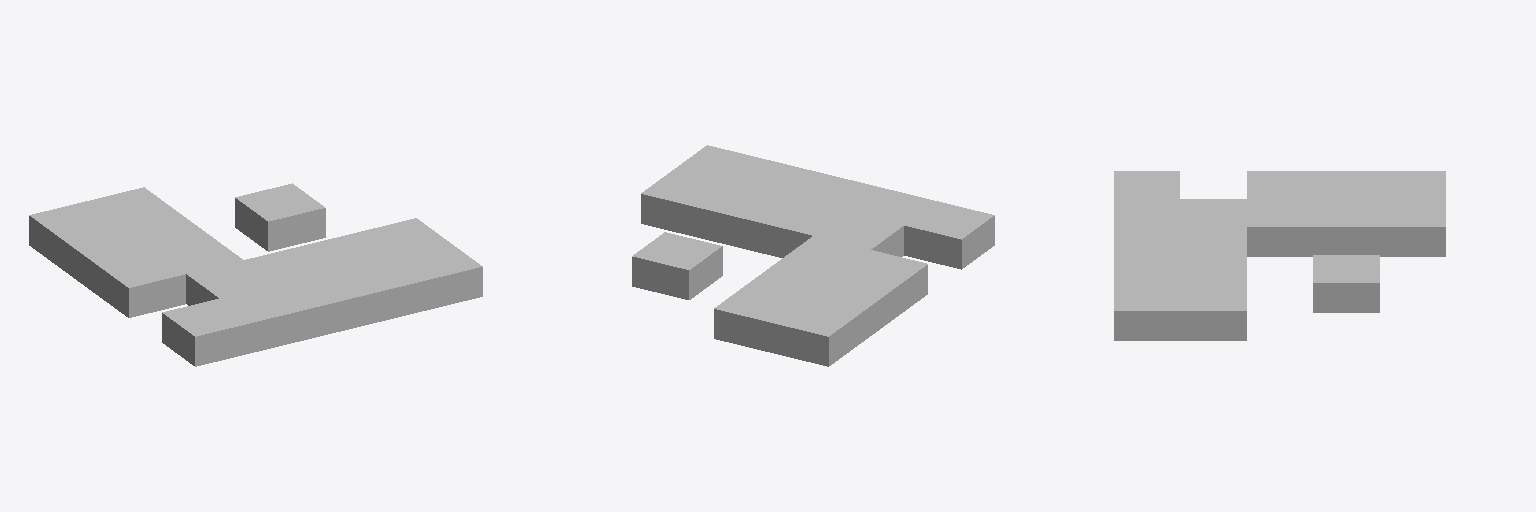
The model's file is 48f_block.obj.
3 views of the same model, side by side, from view 1: azimuth 30°, elevation 25°; view 2: azimuth 150°, elevation 25°; view 3: azimuth 270°, elevation 25° (orthographic).
Parts seen in each view (by area): view 1: foil.block.0.0_block.4166, foil.block.3.3_block.4180, foil.block.0.2_block.4168, foil.block.4.0_block.4181, foil.block.2.0_block.4176, foil.block.1.0_block.4171, foil.block.3.0_block.4178, foil.block.0.3_block.4169, foil.block.0.4_block.4170, foil.block.1.1_block.4172, foil.block.1.3_block.4174, foil.block.2.1_block.4177 (+4 smaller); view 2: foil.block.0.0_block.4166, foil.block.3.3_block.4180, foil.block.0.4_block.4170, foil.block.3.1_block.4179, foil.block.4.1_block.4182, foil.block.1.4_block.4175, foil.block.2.1_block.4177, foil.block.0.2_block.4168, foil.block.0.3_block.4169, foil.block.1.1_block.4172, foil.block.2.0_block.4176, foil.block.1.3_block.4174 (+4 smaller); view 3: foil.block.3.3_block.4180, foil.block.4.1_block.4182, foil.block.1.2_block.4173, foil.block.1.4_block.4175, foil.block.4.0_block.4181, foil.block.1.3_block.4174, foil.block.0.3_block.4169, foil.block.1.1_block.4172, foil.block.2.1_block.4177, foil.block.3.1_block.4179, foil.block.0.0_block.4166, foil.block.0.2_block.4168 (+4 smaller).
Part boxes in pixels (bbox=[...]): foil.block.0.0_block.4166: bbox=[162, 298, 252, 366]; foil.block.3.3_block.4180: bbox=[235, 183, 325, 251]; foil.block.0.2_block.4168: bbox=[96, 250, 185, 317]; foil.block.4.0_block.4181: bbox=[392, 242, 482, 310]; foil.block.2.0_block.4176: bbox=[277, 270, 367, 338]; foil.block.1.0_block.4171: bbox=[220, 285, 309, 352]; foil.block.3.0_block.4178: bbox=[335, 257, 424, 324]; foil.block.0.3_block.4169: bbox=[62, 226, 152, 293]; foil.block.0.4_block.4170: bbox=[29, 201, 119, 268]; foil.block.1.1_block.4172: bbox=[186, 260, 276, 305]; foil.block.1.3_block.4174: bbox=[120, 212, 209, 249]; foil.block.2.1_block.4177: bbox=[244, 246, 333, 283]; foil.block.0.0_block.4166: bbox=[904, 201, 994, 269]; foil.block.3.3_block.4180: bbox=[632, 232, 722, 299]; foil.block.0.4_block.4170: bbox=[771, 298, 861, 366]; foil.block.3.1_block.4179: bbox=[698, 183, 788, 251]; foil.block.4.1_block.4182: bbox=[641, 169, 730, 237]; foil.block.1.4_block.4175: bbox=[714, 285, 803, 352]; foil.block.2.1_block.4177: bbox=[756, 198, 846, 257]; foil.block.0.2_block.4168: bbox=[839, 250, 927, 317]; foil.block.0.3_block.4169: bbox=[805, 274, 894, 341]; foil.block.1.1_block.4172: bbox=[814, 212, 903, 256]; foil.block.2.0_block.4176: bbox=[789, 173, 878, 210]; foil.block.1.3_block.4174: bbox=[747, 260, 836, 297]; foil.block.3.3_block.4180: bbox=[1313, 255, 1379, 312]; foil.block.4.1_block.4182: bbox=[1180, 283, 1246, 340]; foil.block.1.2_block.4173: bbox=[1247, 199, 1312, 256]; foil.block.1.4_block.4175: bbox=[1380, 199, 1445, 256]; foil.block.4.0_block.4181: bbox=[1114, 283, 1179, 340]; foil.block.1.3_block.4174: bbox=[1313, 199, 1379, 254]; foil.block.0.3_block.4169: bbox=[1313, 171, 1379, 198]; foil.block.1.1_block.4172: bbox=[1180, 199, 1246, 226]; foil.block.2.1_block.4177: bbox=[1180, 227, 1246, 254]; foil.block.3.1_block.4179: bbox=[1180, 255, 1246, 282]; foil.block.0.0_block.4166: bbox=[1114, 171, 1179, 198]; foil.block.0.2_block.4168: bbox=[1247, 171, 1312, 198].
Size of the model in its own units: 10 by 1 by 10.